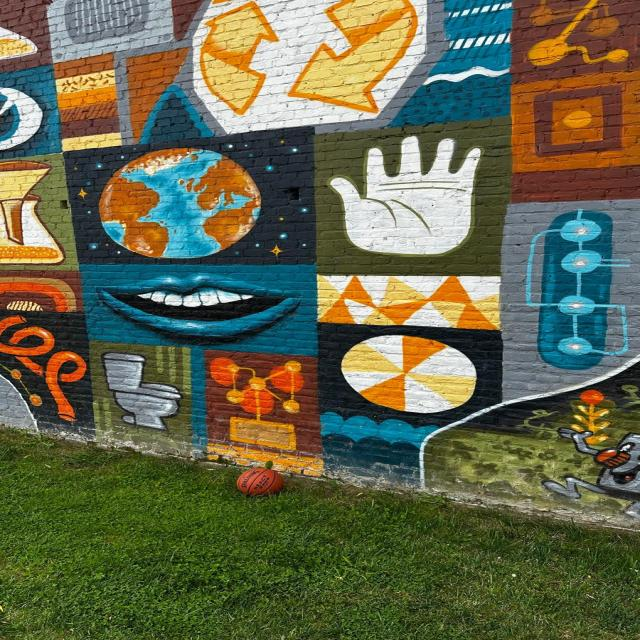Basketball: (237, 469, 284, 496)
